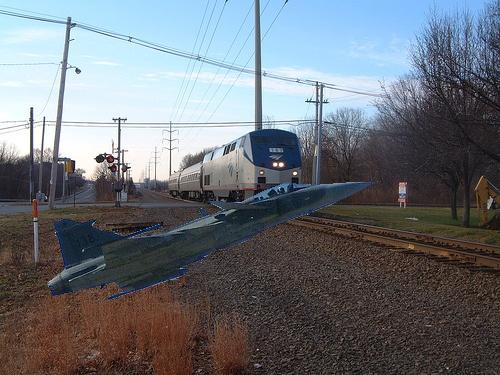tampered: (48, 181, 379, 299)
